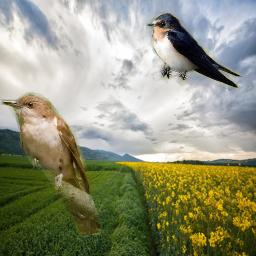Cuckoo: (0, 92, 101, 237)
Swallow: (146, 11, 242, 91)
